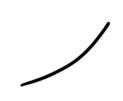no: (17, 18, 111, 90)
